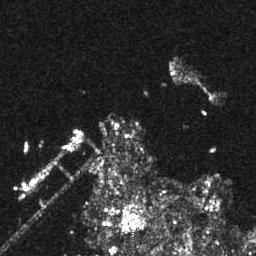ship: (60, 144, 75, 152), (23, 140, 30, 155), (72, 129, 86, 136), (17, 192, 26, 200), (210, 146, 217, 154), (201, 109, 208, 116)
